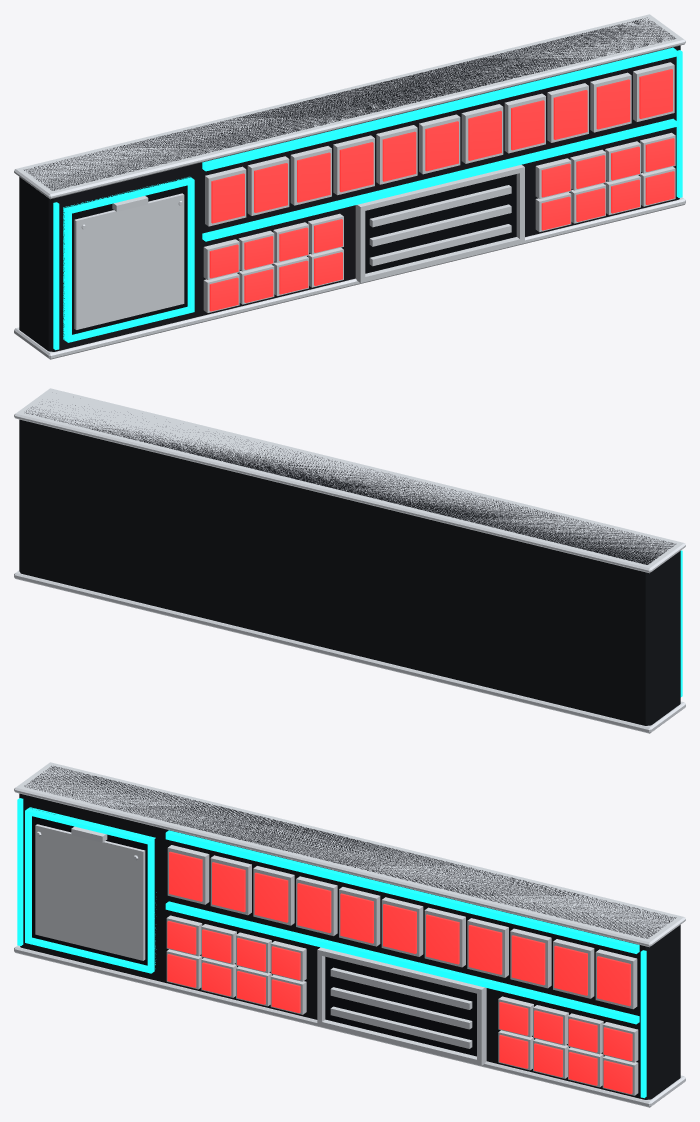
File: rb_neon_rows.glb
3 views of the same model, one above another, from view 1: azimuth 30°, elevation 25°; view 2: azimuth 150°, elevation 25°; view 3: azimuth 330°, elevation 25° (orthographic).
Parts seen in each view (by area): view 1: rb_neon_rows_chrome, rb_neon_rows_deco_body, rb_neon_rows_lamp_tail, rb_neon_rows_deco_neon, rb_neon_rows_deco_plate, rb_neon_rows_deco_trim; view 2: rb_neon_rows_deco_body, rb_neon_rows_chrome; view 3: rb_neon_rows_chrome, rb_neon_rows_deco_body, rb_neon_rows_lamp_tail, rb_neon_rows_deco_neon, rb_neon_rows_deco_plate, rb_neon_rows_deco_trim.
Part boxes in pixels (x1,y1,x2,y2): rb_neon_rows_chrome: (14,14,685,359); rb_neon_rows_deco_body: (19,17,680,351); rb_neon_rows_lamp_tail: (209,69,674,311); rb_neon_rows_deco_neon: (53,47,682,350); rb_neon_rows_deco_plate: (74,193,184,329); rb_neon_rows_deco_trim: (63,174,516,339); rb_neon_rows_deco_body: (19,402,680,725); rb_neon_rows_chrome: (14,388,685,733); rb_neon_rows_chrome: (14,762,685,1107); rb_neon_rows_deco_body: (19,766,680,1099); rb_neon_rows_lamp_tail: (167,851,632,1094); rb_neon_rows_deco_neon: (17,798,646,1098); rb_neon_rows_deco_plate: (35,824,145,960); rb_neon_rows_deco_trim: (29,807,476,1056).
Bounding box in the file's own units: 2.42 × 0.6 × 0.273.
